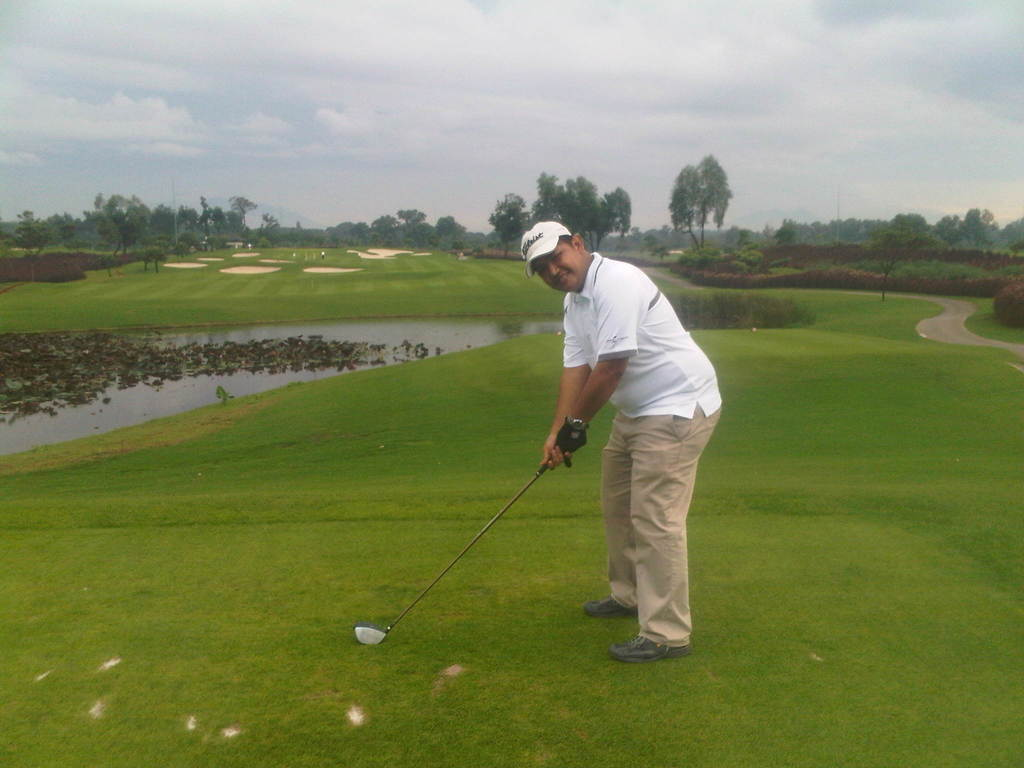Tree: (735, 203, 1024, 302), (3, 188, 285, 274), (487, 169, 635, 260), (664, 153, 733, 255), (343, 202, 468, 251)
